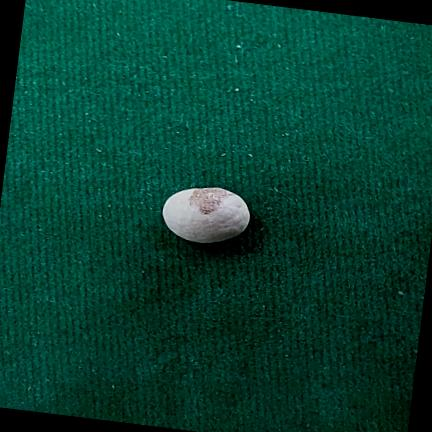husk: (162, 187, 250, 243)
